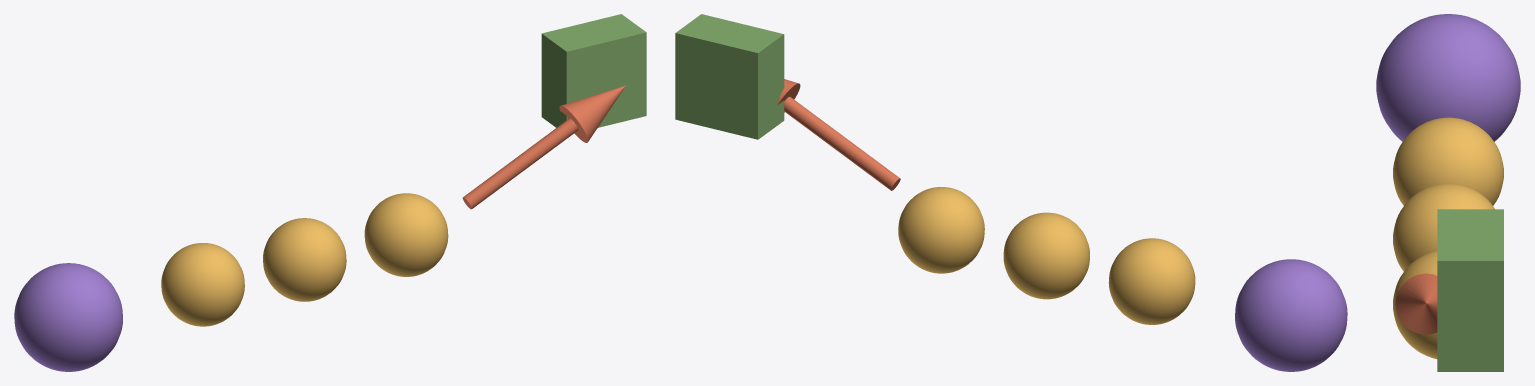
Rendered from biology-biochemistry-atp-cellular-energy.glb.
The picture shows the model from 3 angles, left to right: view 1: azimuth 30°, elevation 25°; view 2: azimuth 150°, elevation 25°; view 3: azimuth 270°, elevation 25°; orthographic projection. The views are drawn at different scales.
Visible parts, largest first — view 1: adenosine-base, cell-work-load, phosphate-0, phosphate-1, phosphate-2, atp-to-cell-work-shaft, atp-to-cell-work-head; view 2: cell-work-load, adenosine-base, phosphate-1, phosphate-2, phosphate-0, atp-to-cell-work-shaft; view 3: adenosine-base, cell-work-load, phosphate-0, phosphate-1, atp-to-cell-work-head, phosphate-2.
Boxes of the visible parts, x1,y1,x2,y2 form: adenosine-base: (14,263,122,371); cell-work-load: (541,14,646,133); phosphate-0: (161,243,244,326); phosphate-1: (263,218,346,301); phosphate-2: (364,193,448,276); atp-to-cell-work-shaft: (462,118,578,209); atp-to-cell-work-head: (559,85,625,142); cell-work-load: (675,14,784,139); adenosine-base: (1235,259,1347,371); phosphate-1: (1003,212,1089,299); phosphate-2: (898,187,984,273); phosphate-0: (1108,238,1195,324); atp-to-cell-work-shaft: (784,96,900,190); adenosine-base: (1376,14,1520,141); cell-work-load: (1437,209,1503,371); phosphate-0: (1393,117,1503,205); phosphate-1: (1393,183,1494,271); atp-to-cell-work-head: (1395,273,1437,334); phosphate-2: (1393,250,1437,358).
Size of what is drawn, in the model's own units: 1.71 by 0.52 by 0.26.
